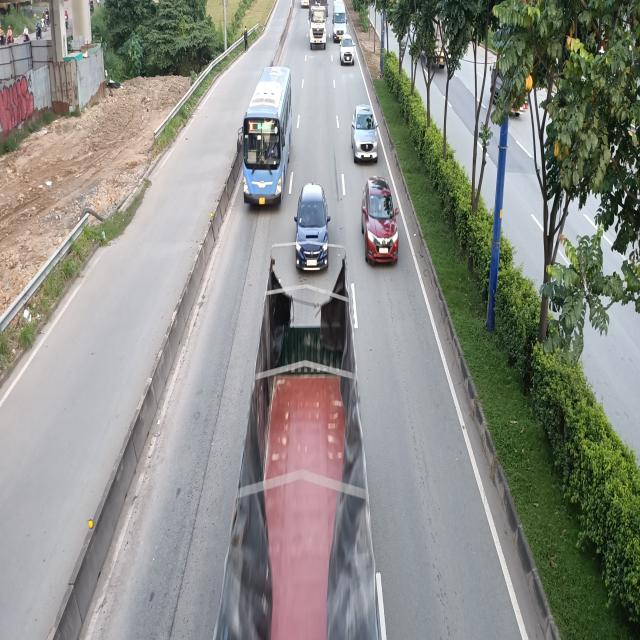car: (294, 184, 332, 274), (361, 175, 398, 264), (350, 106, 378, 165), (340, 34, 356, 66)
coach: (238, 68, 292, 206)
truck: (307, 0, 327, 49)
van: (332, 0, 348, 39)
